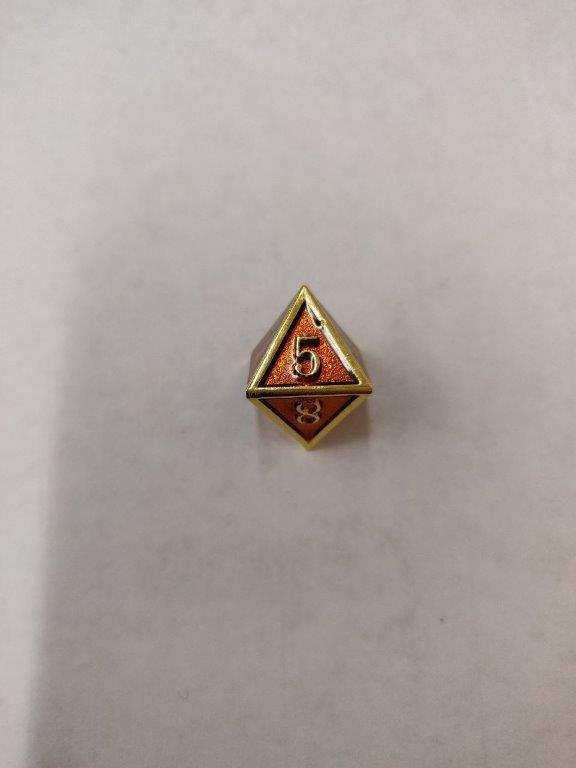d8-5: (246, 277, 378, 452)
